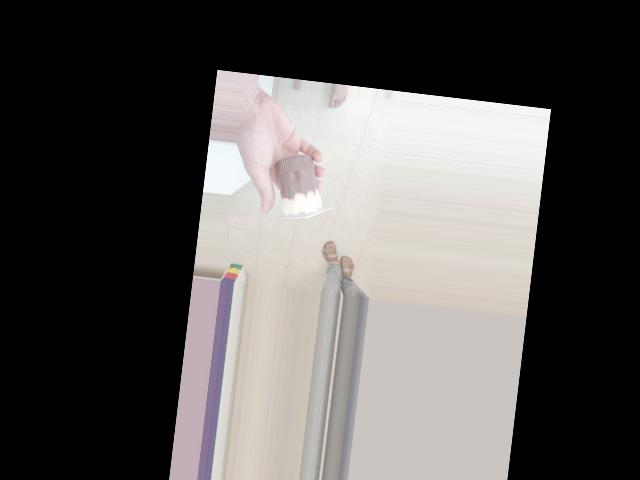milky: (268, 146, 334, 228)
